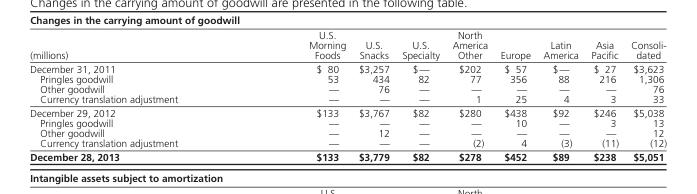table: (29, 28, 666, 162)
table column: (29, 28, 242, 162), (242, 28, 351, 162), (395, 28, 445, 162), (445, 28, 493, 162), (536, 28, 584, 162), (351, 28, 395, 162), (493, 28, 536, 162), (624, 28, 666, 162), (584, 28, 624, 162)
table column header: (29, 28, 666, 61)
table row: (29, 28, 666, 61), (29, 149, 666, 162), (29, 61, 666, 73), (29, 93, 666, 105), (29, 105, 666, 117), (29, 127, 666, 138), (29, 138, 666, 149), (29, 73, 666, 83), (29, 83, 666, 93), (29, 117, 666, 127)
